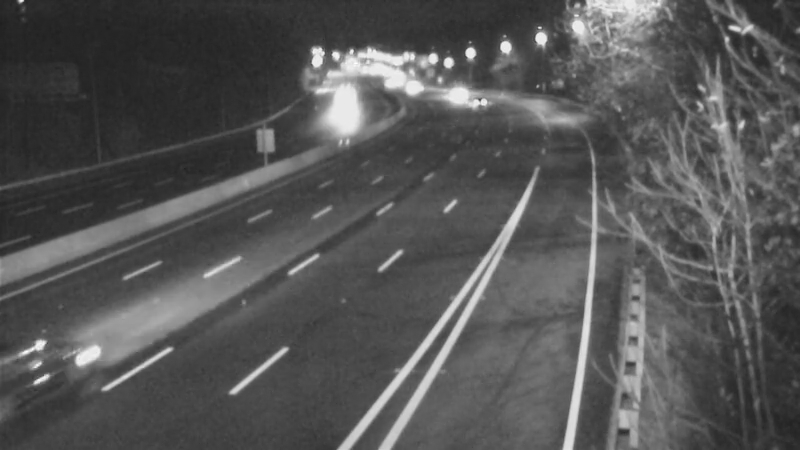vehicle: (1, 314, 103, 424), (433, 69, 483, 119), (450, 80, 500, 130), (317, 80, 367, 130)
